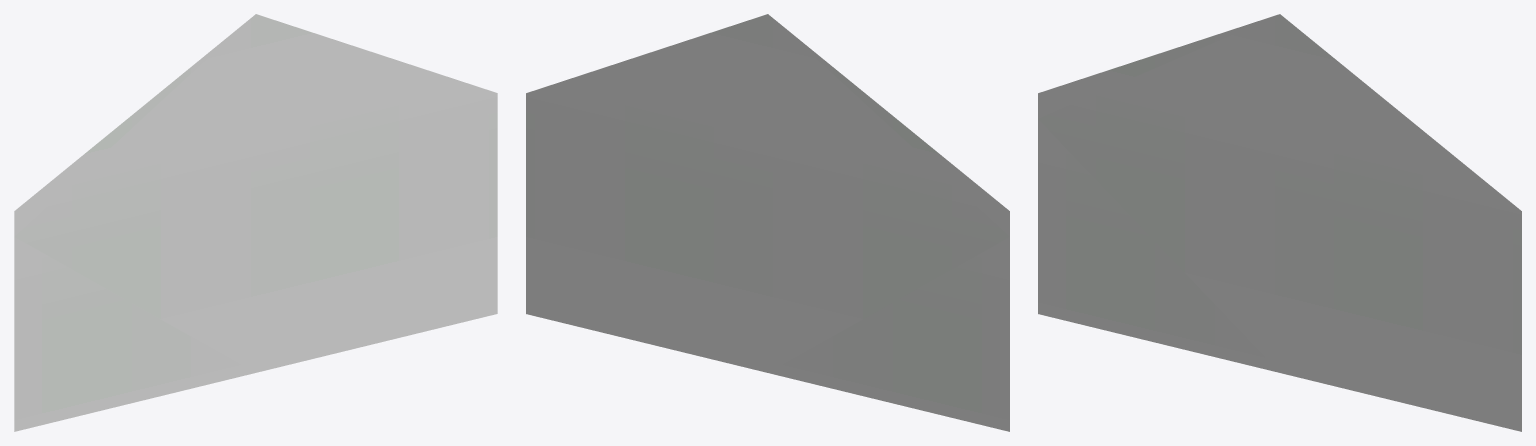
The model's file is FIGHTCLUB_ALPHA.glb.
3 renders of one model, left to right at view 1: azimuth 30°, elevation 25°; view 2: azimuth 150°, elevation 25°; view 3: azimuth 330°, elevation 25°, orthographic.
Parts seen in each view (by area): view 1: Mesh; view 2: Mesh; view 3: Mesh.
Part boxes in pixels (<box>): Mesh: <box>14,14,497,431</box>; Mesh: <box>526,14,1009,431</box>; Mesh: <box>1038,14,1521,431</box>.
Bounding box in the file's own units: 10.06 × 7.13 × 0.00491.
Materials: 1 (1 with a texture image).
